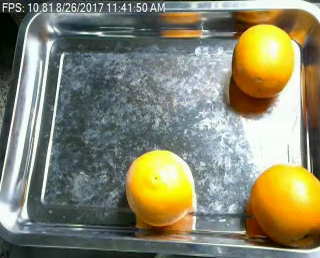Orange: (124, 149, 196, 226), (251, 165, 320, 245), (232, 22, 294, 98)
